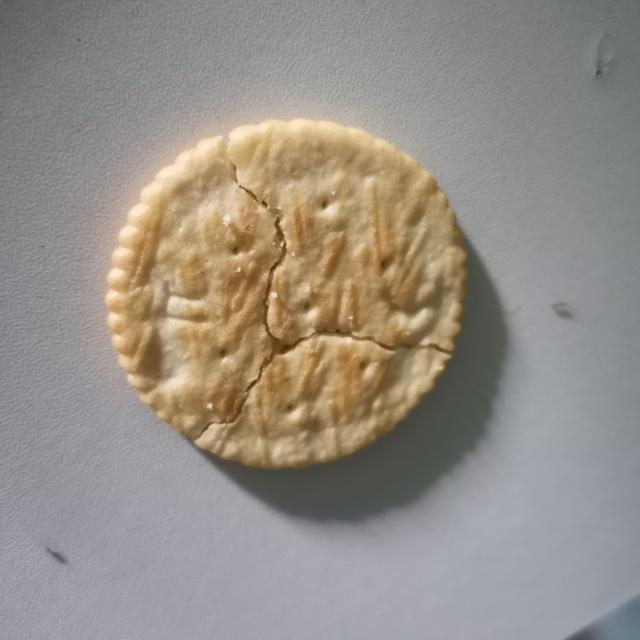Fracture: (185, 141, 459, 457)
